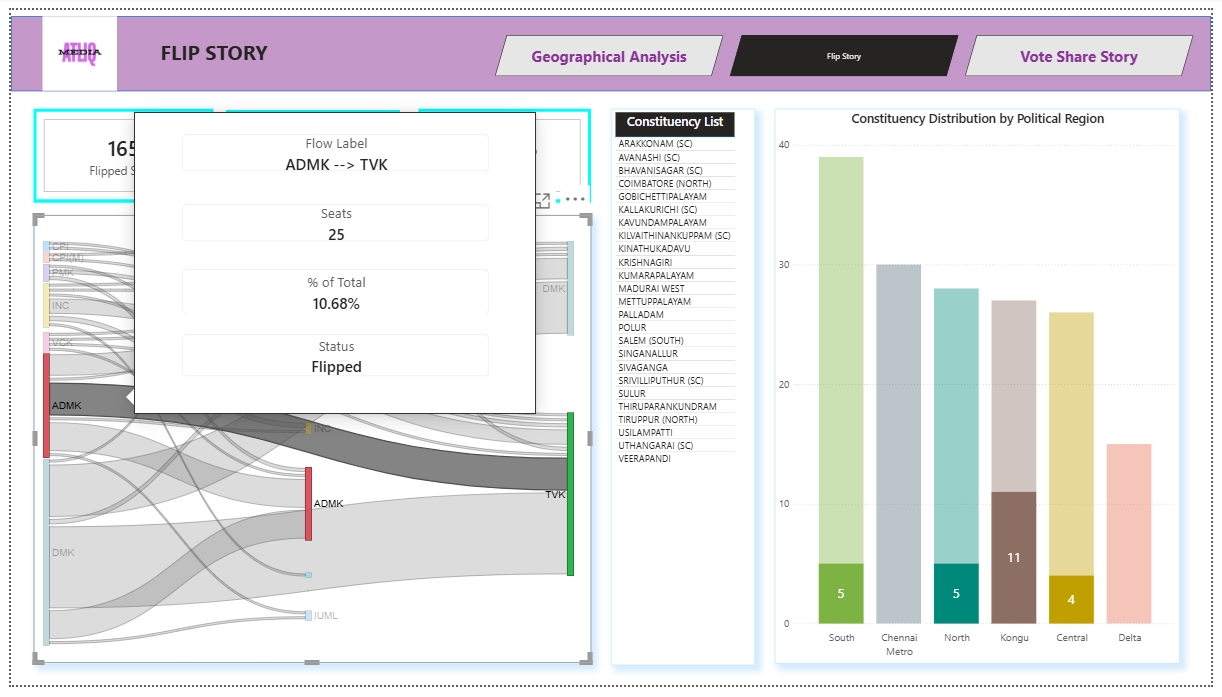

The page's visual inventory and layout, read from the dashboard file:
{"tool":"powerbi","page":{"name":"Flip Story","canvas":[1920,1080],"ordinal":1},"visuals":[{"type":"shape","box":[0,10,1920,120],"z":0},{"type":"cardVisual","fields":{"Data":["Measures (2).Flipped Seats"]},"box":[36,158,288,150],"z":1000},{"type":"sankey02300D1BE6F5427989F3DE31CCA9E0F32020","title":"Constituency Winner Transitions: 2021 vs 2026","fields":{"Source":["tn_election_analysis mart_constituency_flips.winner_2021"],"Destination":["tn_election_analysis mart_constituency_flips.winner_2026"],"Weight":["CountNonNull(tn_election_analysis mart_constituency_flips.constituency_name)"]},"box":[36,328,892,718],"z":2000},{"type":"columnChart","title":"Constituency Distribution by Political Region","fields":{"Y":["Measures (2).Count of Constituency"],"Category":["dim_constituency.region"]},"box":[1222,158,648,888],"z":3000},{"type":"textbox","box":[212,40,226,70],"z":4000},{"type":"cardVisual","fields":{"Data":["Measures (2).Flipped Seat %"]},"box":[344,160,278,150],"z":5000},{"type":"cardVisual","fields":{"Data":["Measures (2).% of Total"]},"box":[652,158,276,150],"z":6000},{"type":"tableEx","fields":{"Values":["tn_election_analysis mart_constituency_flips.constituency_name"]},"box":[960,158,230,890],"z":7000},{"type":"pageNavigator","box":[774,40,1118,66],"z":8000},{"type":"image","box":[43.4,10.9,132.1,119.4],"z":8001}]}

Visuals, with their boxes in screenshot pixels (x1, y1, x2, y2), scaled from the page's 1920x1080 canvas onto the 1222x697 screenshot:
shape: detection(0, 6, 1221, 84)
cardVisual - Measures (2).Flipped Seats: detection(23, 102, 206, 199)
"Constituency Winner Transitions: 2021 vs 2026" sankey02300D1BE6F5427989F3DE31CCA9E0F32020: detection(23, 212, 591, 675)
"Constituency Distribution by Political Region" columnChart: detection(778, 102, 1190, 675)
textbox: detection(135, 26, 279, 71)
cardVisual - Measures (2).Flipped Seat %: detection(219, 103, 396, 200)
cardVisual - Measures (2).% of Total: detection(415, 102, 591, 199)
tableEx - tn_election_analysis mart_constituency_flips.constituency_name: detection(611, 102, 757, 676)
pageNavigator: detection(493, 26, 1204, 68)
image: detection(28, 7, 112, 84)
